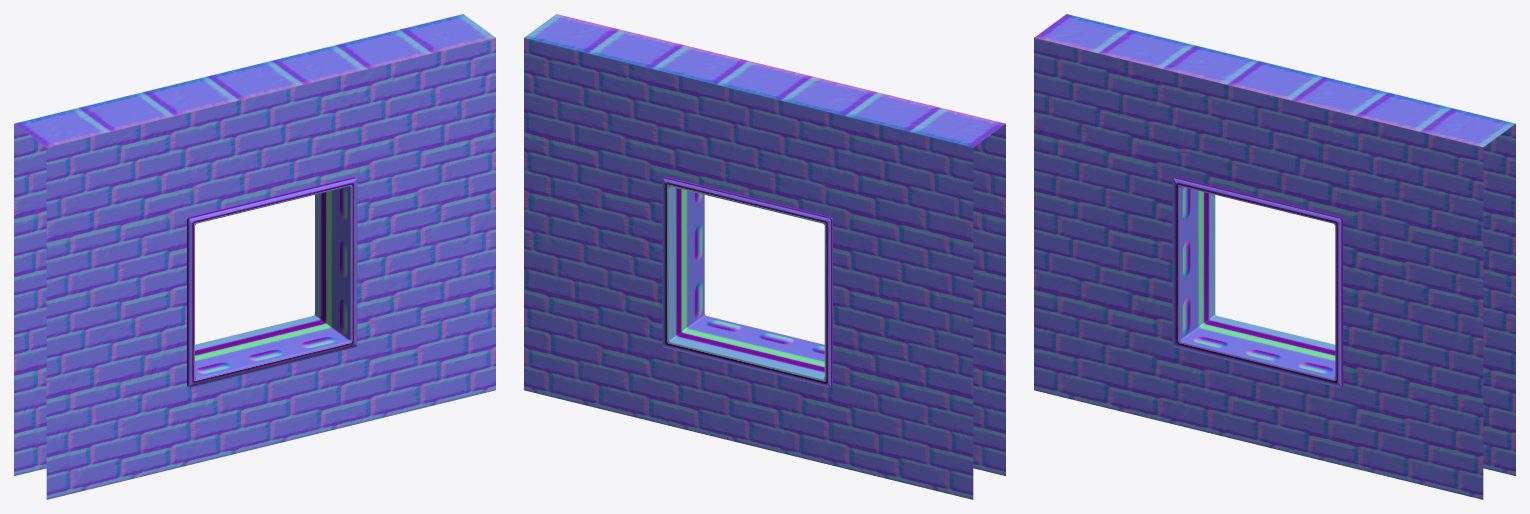
File: sm_wall_straight_03.fbx
3 renders of one model, left to right at view 1: azimuth 30°, elevation 25°; view 2: azimuth 150°, elevation 25°; view 3: azimuth 330°, elevation 25°, orthographic.
Visible parts, largest first — view 1: sm_wall_straight_03; view 2: sm_wall_straight_03; view 3: sm_wall_straight_03.
Part boxes in pixels (x1,y1,x2,y2): sm_wall_straight_03: (14, 14, 495, 499); sm_wall_straight_03: (524, 14, 1005, 499); sm_wall_straight_03: (1034, 14, 1515, 499).
Size of the model in its own units: 400 by 300 by 55.8.
Materials: 1 (1 with a texture image).
